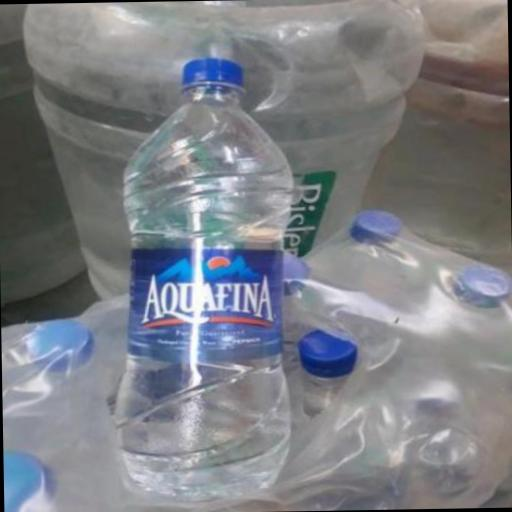Coca: (102, 44, 304, 510)
